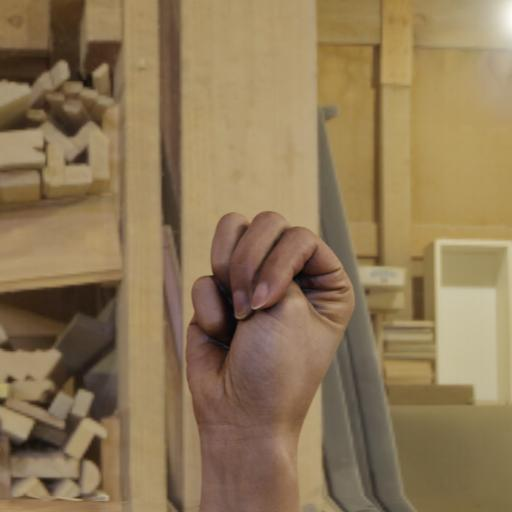M: (180, 206, 362, 442)
